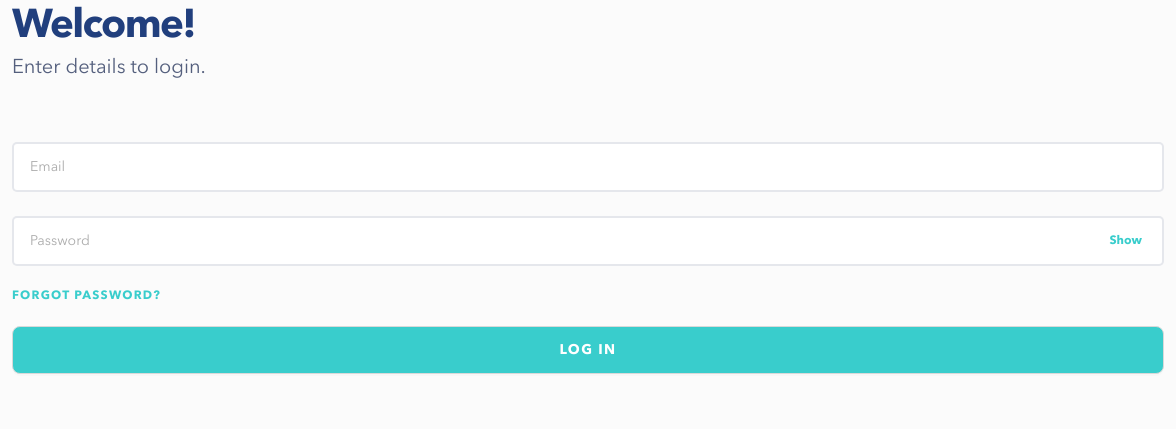
Scenario: Login Form › empty fields should render error messages when submitted
// Click button to trigger submit event
Step 1. Click the button "Log in" → (588, 350), box [12,326,1164,374]
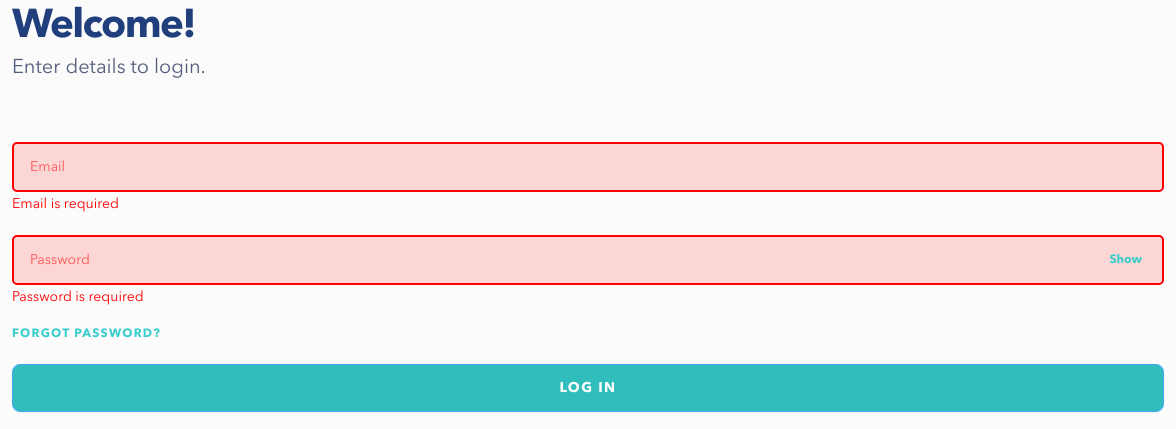
Result: the number of messages is 2 at [12,197,119,211]; [12,290,144,304]
